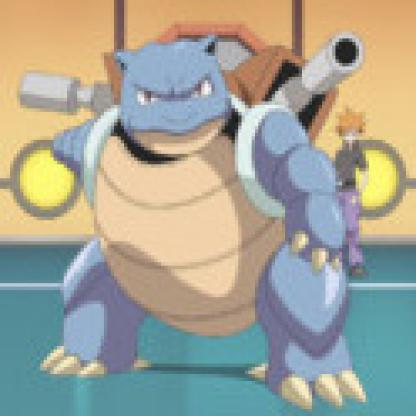Blastoise: (14, 22, 377, 413)
